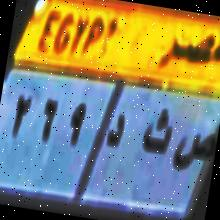2: (4, 85, 36, 150)
6: (31, 90, 63, 152)
9: (58, 96, 93, 156)
daal: (101, 105, 131, 159)
saad: (170, 122, 216, 178)
thaa: (138, 108, 178, 160)
